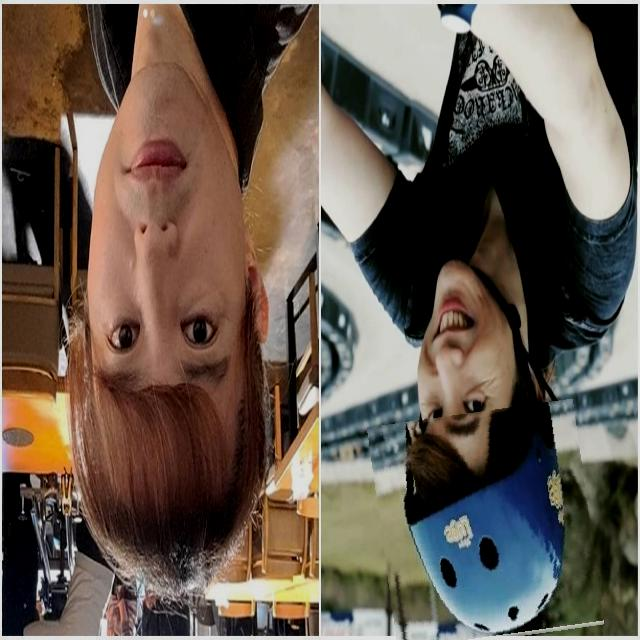helmet: (374, 406, 597, 640)
